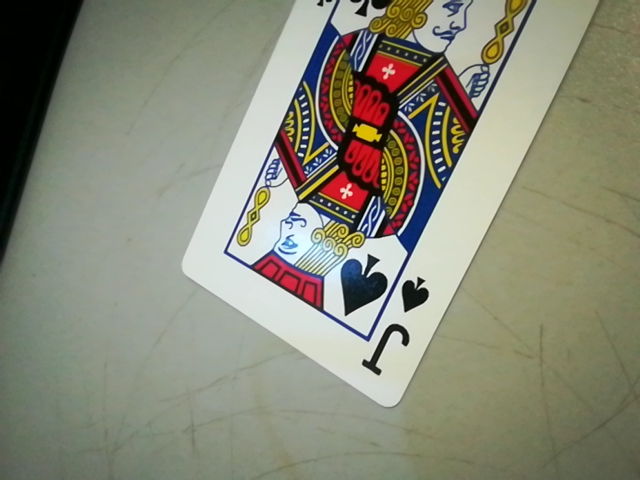ht j: (365, 265, 431, 388)
